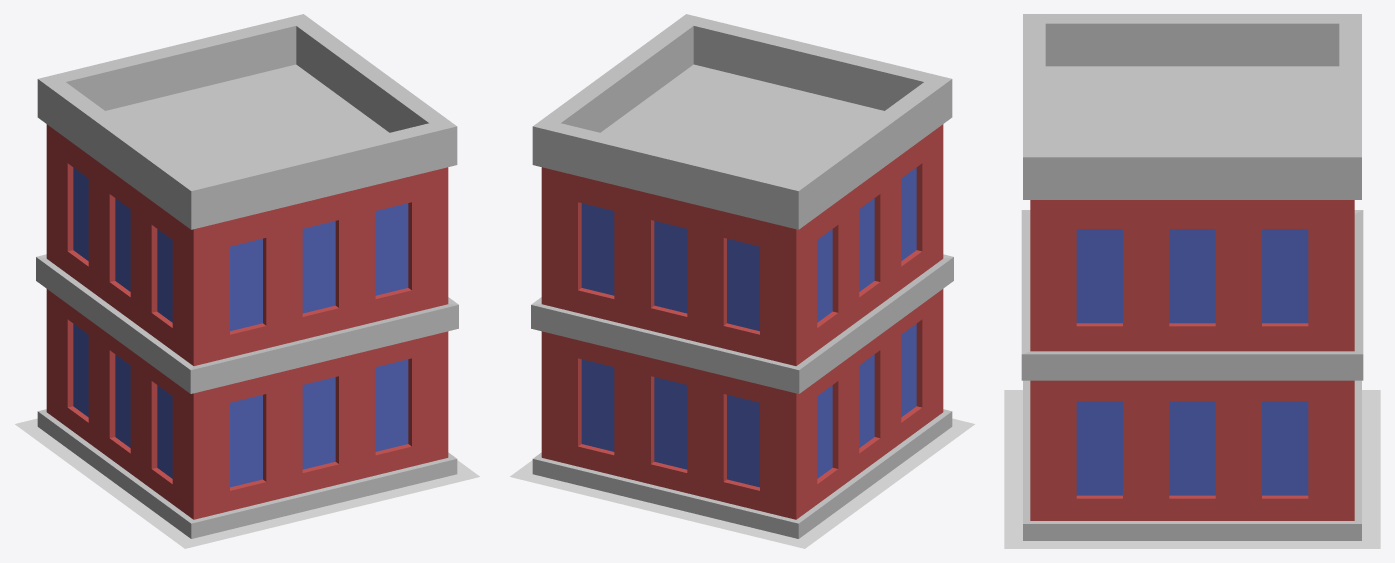
Rendered from Building02.fbx.
3 views of the same model, side by side, from view 1: azimuth 30°, elevation 25°; view 2: azimuth 150°, elevation 25°; view 3: azimuth 270°, elevation 25° (orthographic). The views are drawn at different scales.
Parts seen in each view (by area): view 1: Plane.004, Plane.003; view 2: Plane.004, Plane.003; view 3: Plane.004, Plane.003.
Boxes of the visible parts, x1,y1,x2,y2 form: Plane.004: [36, 14, 458, 538]; Plane.003: [15, 418, 479, 548]; Plane.004: [531, 14, 953, 538]; Plane.003: [510, 418, 974, 548]; Plane.004: [1021, 14, 1363, 540]; Plane.003: [1004, 390, 1380, 548].
Size of the model in its own units: 800 by 900 by 800.
